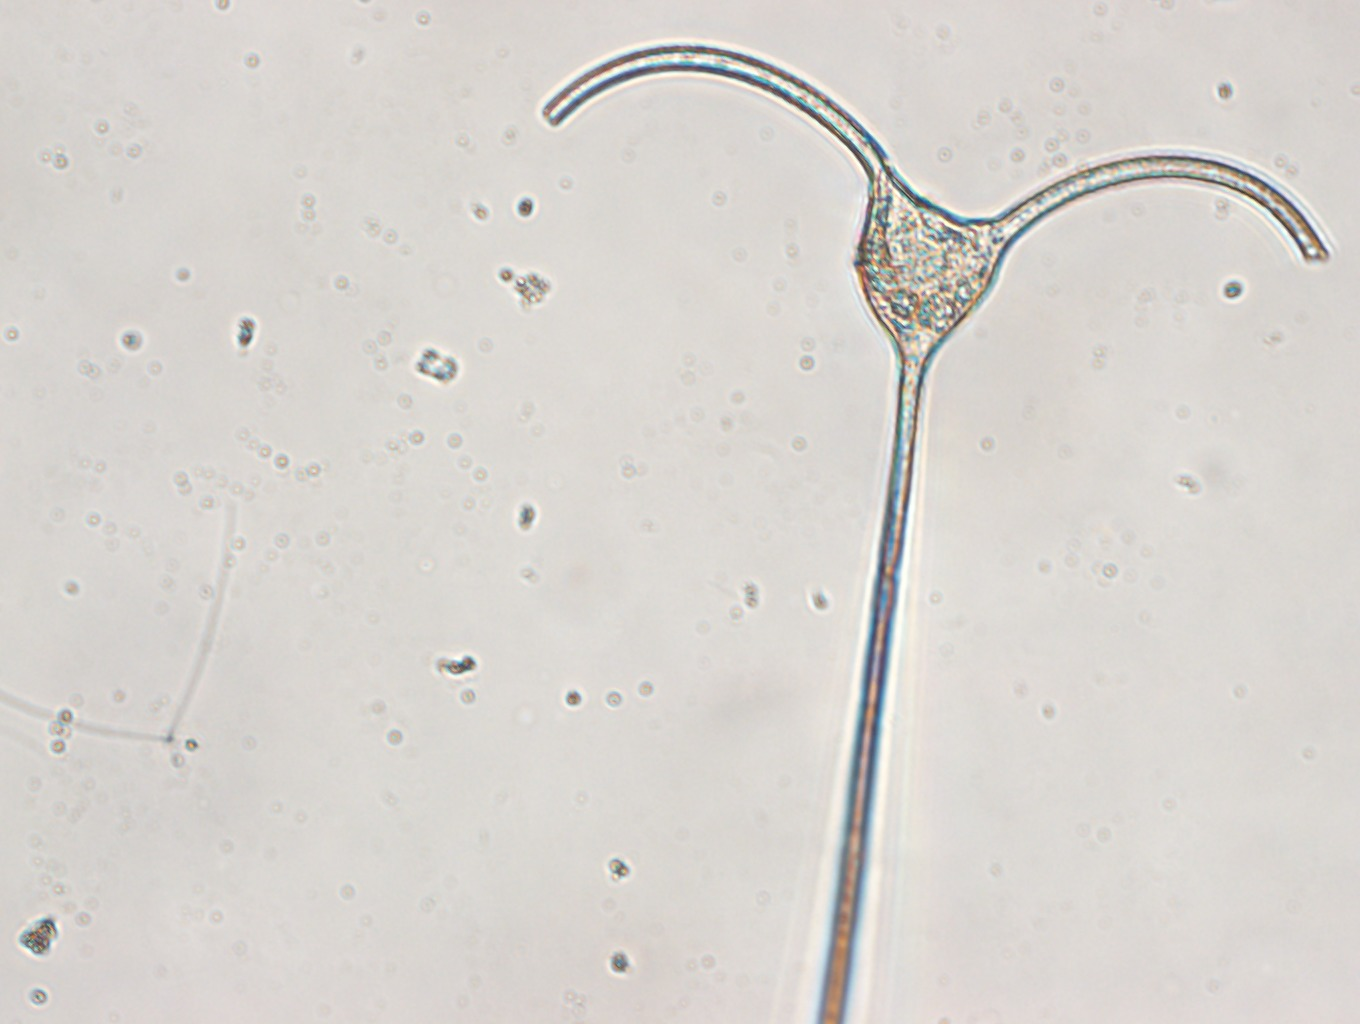ceratium trichoceros: (538, 33, 1334, 1024)
